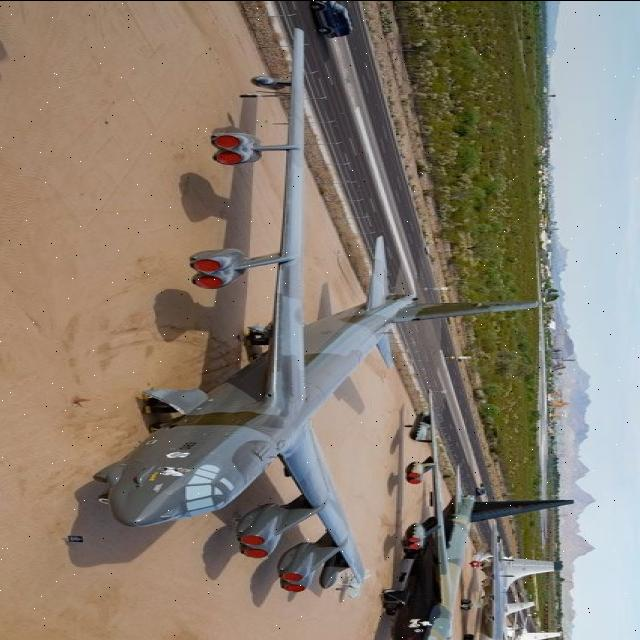B52: (110, 26, 556, 604), (381, 408, 501, 640), (456, 532, 612, 638)
